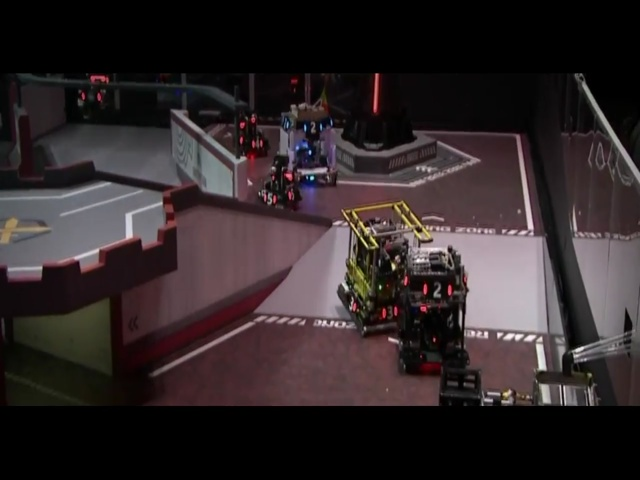bluePlate: (180, 199, 211, 228), (281, 151, 315, 176), (408, 329, 438, 357), (356, 321, 376, 355), (339, 119, 358, 150), (150, 202, 170, 225), (322, 126, 334, 147)
redPlate: (143, 325, 188, 358), (215, 314, 234, 348)
